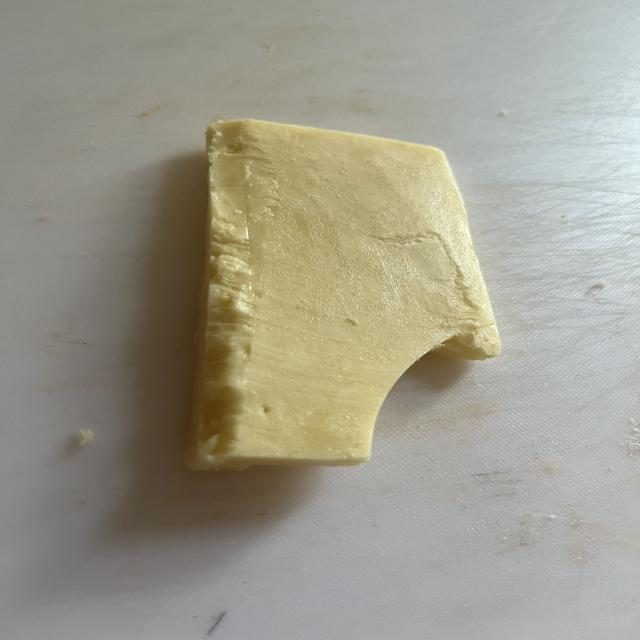cheese: (187, 120, 500, 470)
